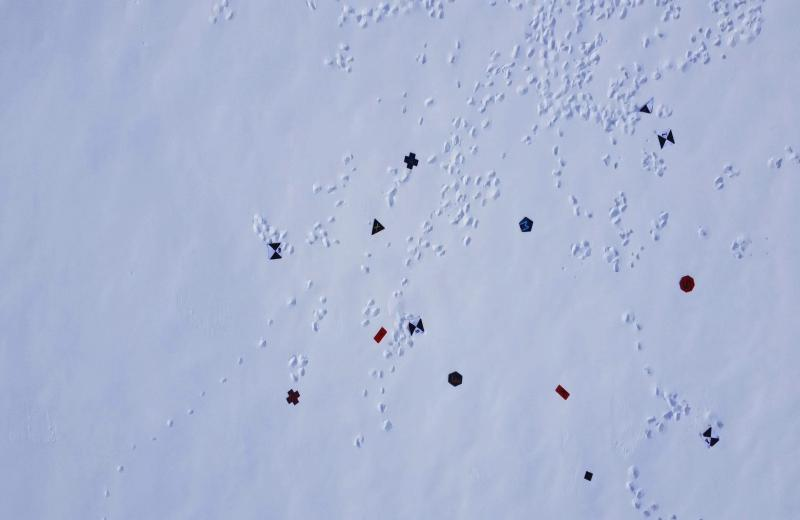Cross: (284, 387, 302, 406), (403, 150, 419, 170)
Hexagon: (446, 370, 464, 388)
Octagon: (678, 274, 696, 294)
Pentagon: (518, 215, 534, 234)
Rectangle: (372, 324, 390, 346), (553, 382, 572, 402)
Square: (582, 470, 594, 484)
Triangle: (368, 217, 387, 236)
